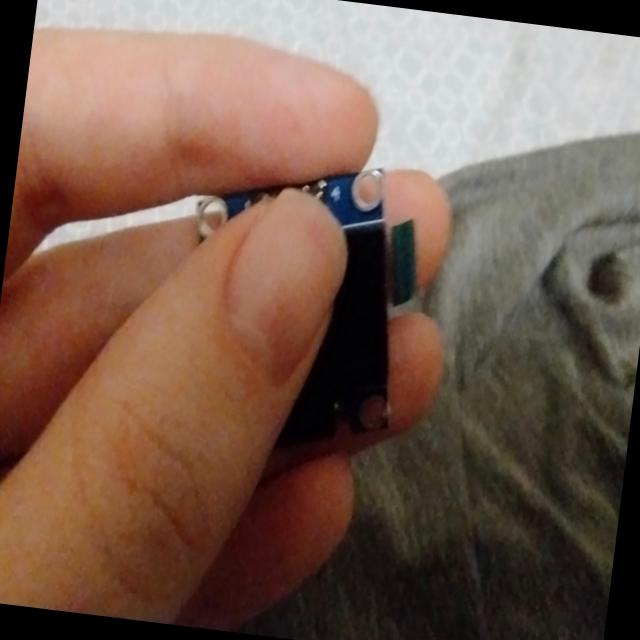oled: (166, 140, 436, 463)
